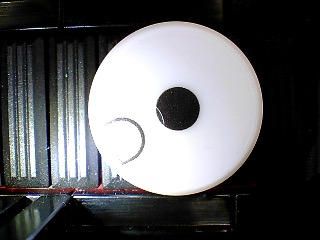BOHOMIPO1: (87, 20, 263, 196)
